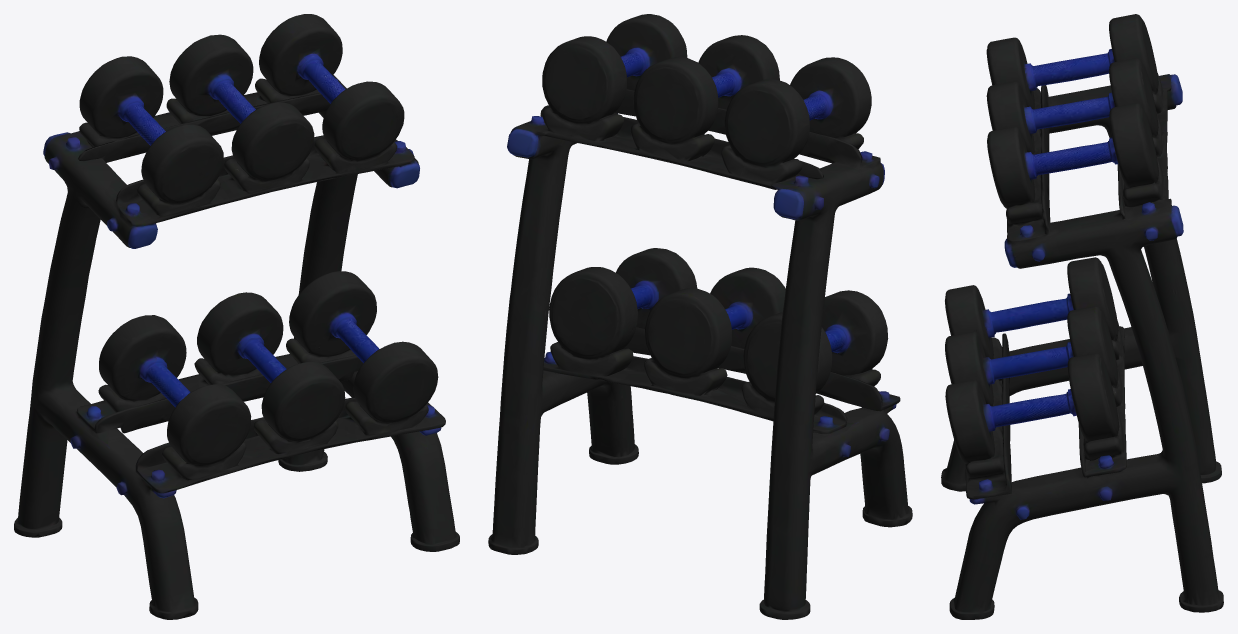
The model's file is 12-halteres.glb.
3 views of the same model, side by side, from view 1: azimuth 30°, elevation 25°; view 2: azimuth 150°, elevation 25°; view 3: azimuth 270°, elevation 25° (orthographic). The views are drawn at different scales.
Visible parts, largest first — view 1: tripo_node_d56d0ced-1177-4f57-b087-969adb752875; view 2: tripo_node_d56d0ced-1177-4f57-b087-969adb752875; view 3: tripo_node_d56d0ced-1177-4f57-b087-969adb752875.
Boxes of the visible parts, box(x1,y1,x2,y2) form: tripo_node_d56d0ced-1177-4f57-b087-969adb752875: box(14, 14, 459, 619); tripo_node_d56d0ced-1177-4f57-b087-969adb752875: box(488, 14, 912, 619); tripo_node_d56d0ced-1177-4f57-b087-969adb752875: box(941, 14, 1223, 619).
Bounding box in the file's own units: 0.7069 × 1 × 0.5338.
Materials: 1 (1 with a texture image).
